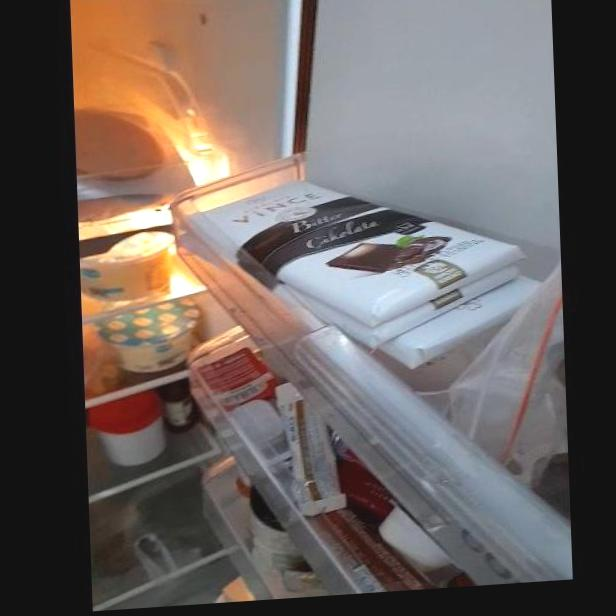chocolate: (199, 171, 516, 334)
yoghurt: (100, 307, 202, 369), (84, 248, 176, 299)
